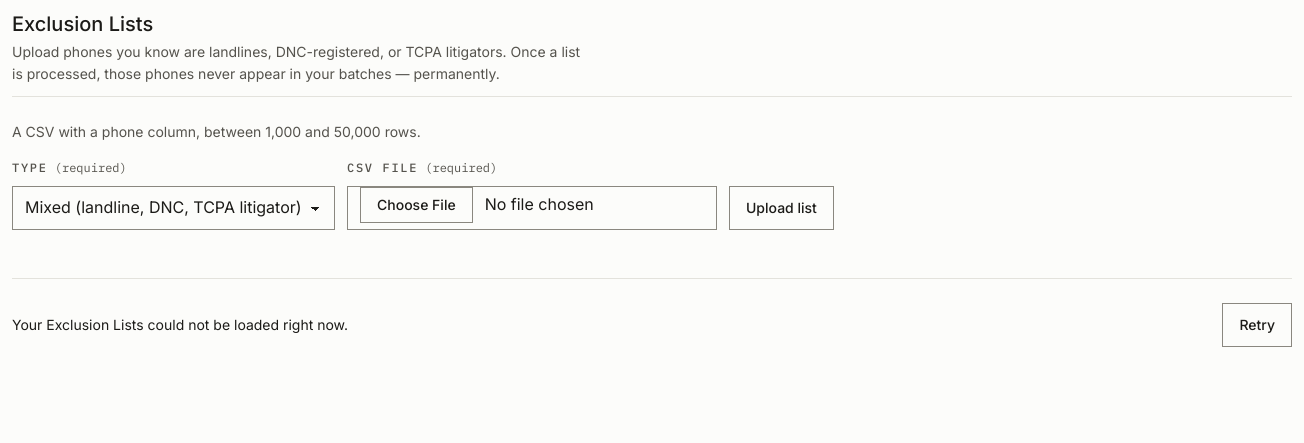
Test case: Customer Exclusion Lists › offers a retry when the list cannot be loaded
expect the text "Your Exclusion Lists could not be loaded right now." is shown: met, box [12, 314, 348, 336]
Click the button "Retry". click: (1257, 325)
box: [1222, 303, 1292, 347]
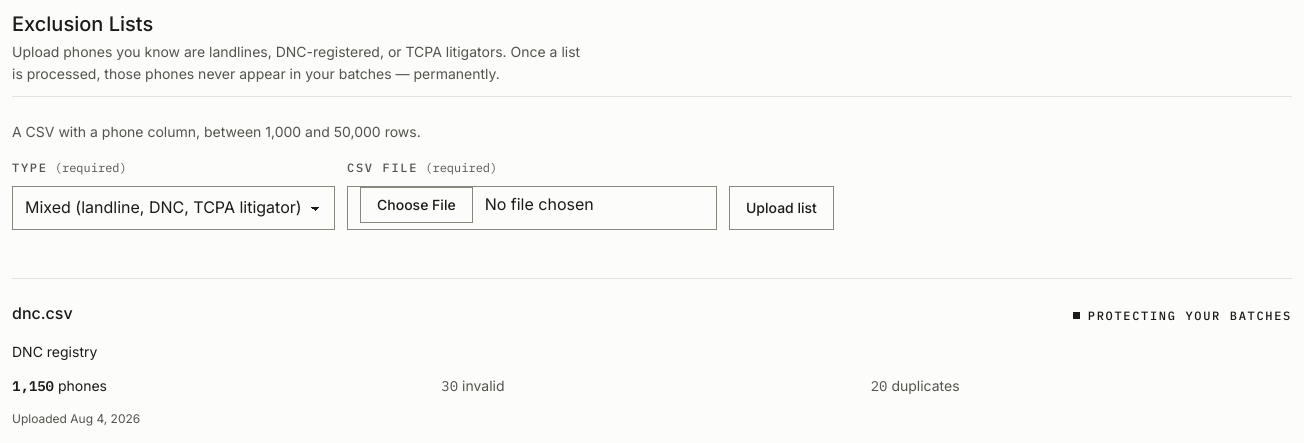
expect the heading "dnc.csv" is shown: met, box [12, 303, 73, 323]
